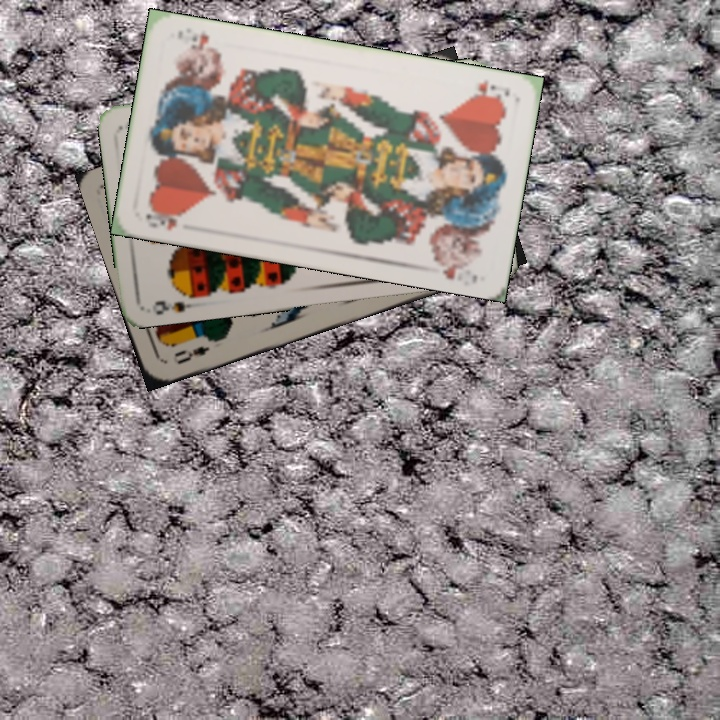EO: (170, 333, 220, 367)
HO: (465, 76, 512, 105), (142, 205, 190, 233)
S9: (151, 286, 204, 317)
